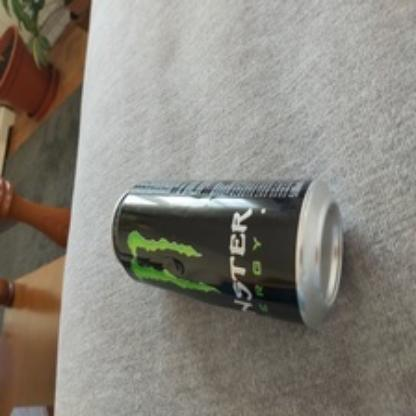Can: (111, 180, 345, 330)
